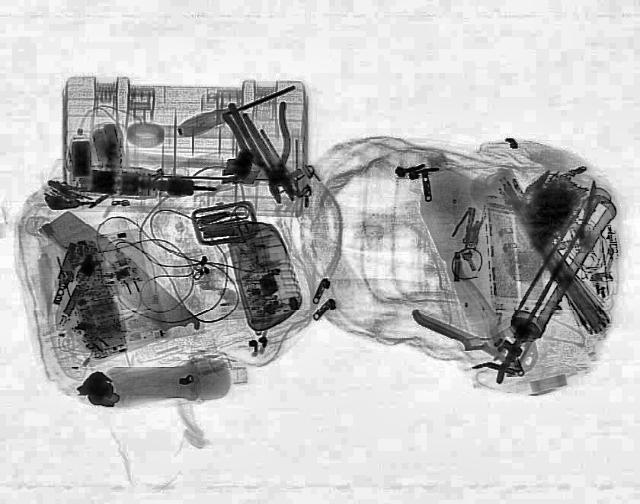Pliers: (218, 100, 318, 208)
